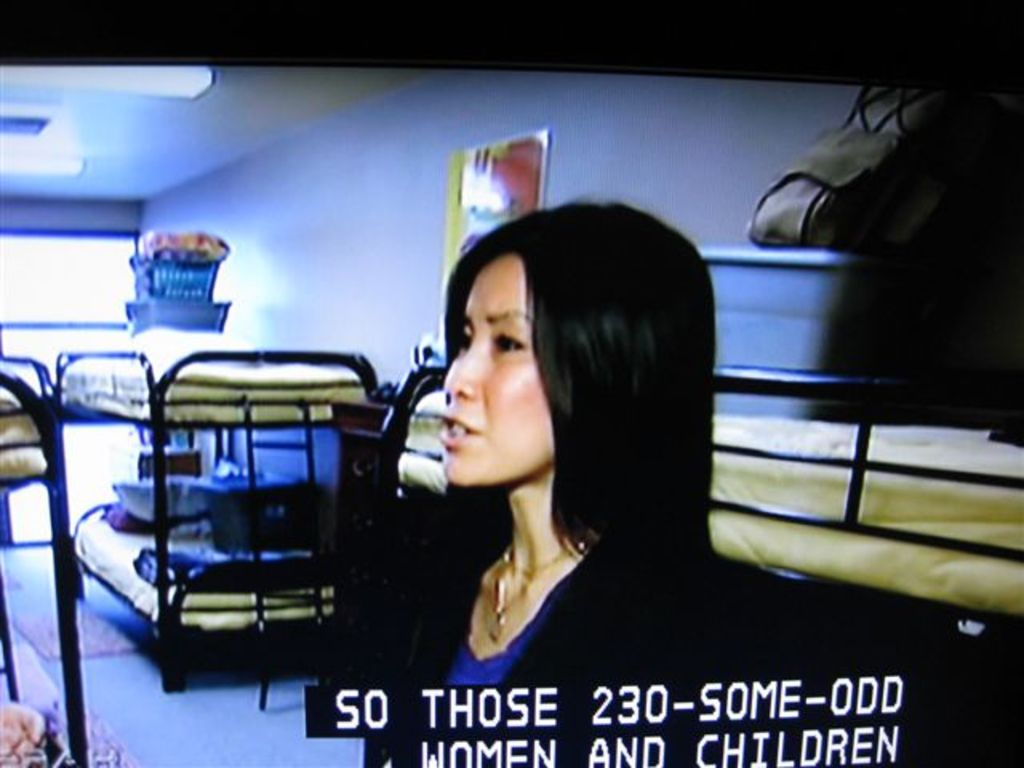face: (440, 211, 587, 520)
